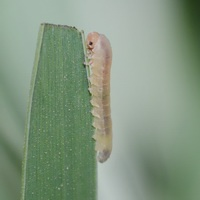insect: (86, 32, 111, 162)
